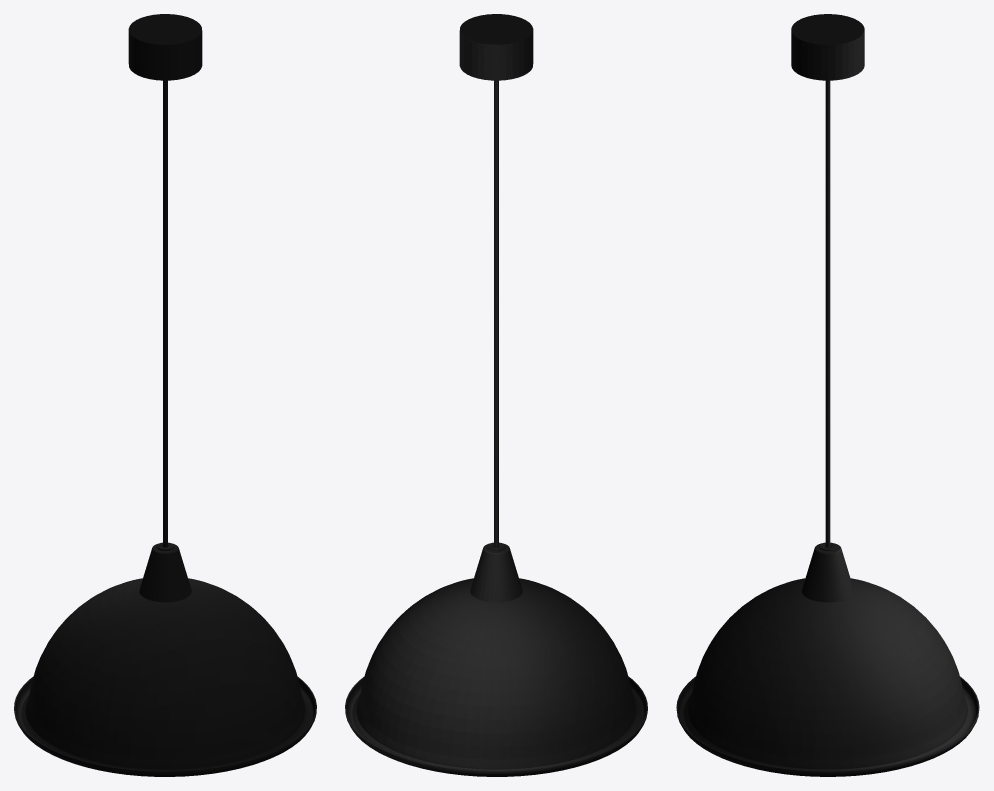
File: tal.glb
3 renders of one model, left to right at view 1: azimuth 30°, elevation 25°; view 2: azimuth 150°, elevation 25°; view 3: azimuth 270°, elevation 25°, orthographic.
Parts seen in each view (by area): view 1: Sphere.003, Cylinder.004, Cylinder.006, Cylinder; view 2: Sphere.003, Cylinder.004, Cylinder.006, Cylinder; view 3: Sphere.003, Cylinder.004, Cylinder.006, Cylinder.
Boxes of the visible parts, x1=… form: Sphere.003: x1=14, y1=578, x2=316, y2=776; Cylinder.004: x1=128, y1=14, x2=202, y2=80; Cylinder.006: x1=163, y1=80, x2=167, y2=547; Cylinder: x1=139, y1=543, x2=191, y2=602; Sphere.003: x1=345, y1=578, x2=647, y2=776; Cylinder.004: x1=459, y1=14, x2=533, y2=80; Cylinder.006: x1=494, y1=80, x2=498, y2=547; Cylinder: x1=470, y1=543, x2=522, y2=602; Sphere.003: x1=676, y1=578, x2=979, y2=776; Cylinder.004: x1=791, y1=14, x2=864, y2=80; Cylinder.006: x1=825, y1=80, x2=830, y2=547; Cylinder: x1=801, y1=543, x2=854, y2=602.
Bounding box in the file's own units: 0.3162 × 0.7892 × 0.3162.
1 material, 1 textured.
